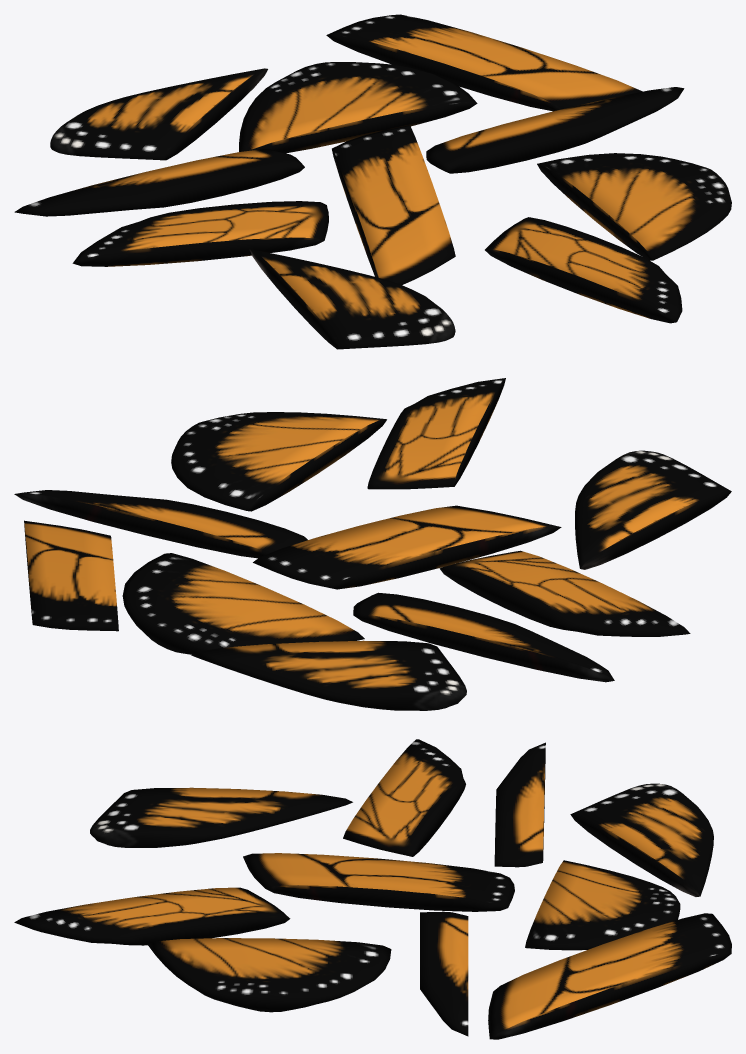
The model's file is AsasBorboletas_cortado.fbx.
3 views of the same model, one above another, from view 1: azimuth 30°, elevation 25°; view 2: azimuth 150°, elevation 25°; view 3: azimuth 270°, elevation 25° (orthographic). The views are drawn at different scales.
Visible parts, largest first — view 1: AsasBorboletas_cortadas; view 2: AsasBorboletas_cortadas; view 3: AsasBorboletas_cortadas.
Part boxes in pixels (box(x1,y1,x2,y2)): AsasBorboletas_cortadas: box(14, 14, 731, 349); AsasBorboletas_cortadas: box(14, 378, 731, 710); AsasBorboletas_cortadas: box(14, 739, 731, 1039).
Bounding box in the file's own units: 243 × 14.37 × 247.
Materials: 1 (1 with a texture image).
